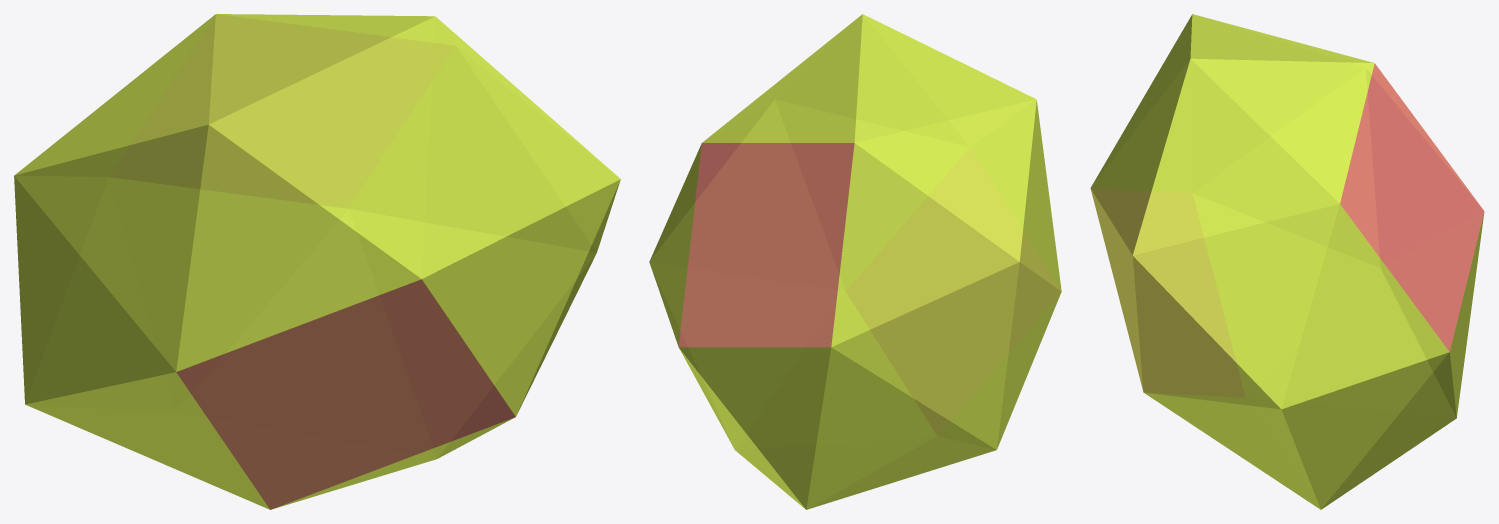
File: j85_snub_square_antiprism.obj
The picture shows the model from 3 angles, left to right: view 1: azimuth 30°, elevation 25°; view 2: azimuth 150°, elevation 25°; view 3: azimuth 270°, elevation 25°; orthographic projection. The views are drawn at different scales.
Size of the model in its own units: 2.06 by 1.95 by 1.66.
